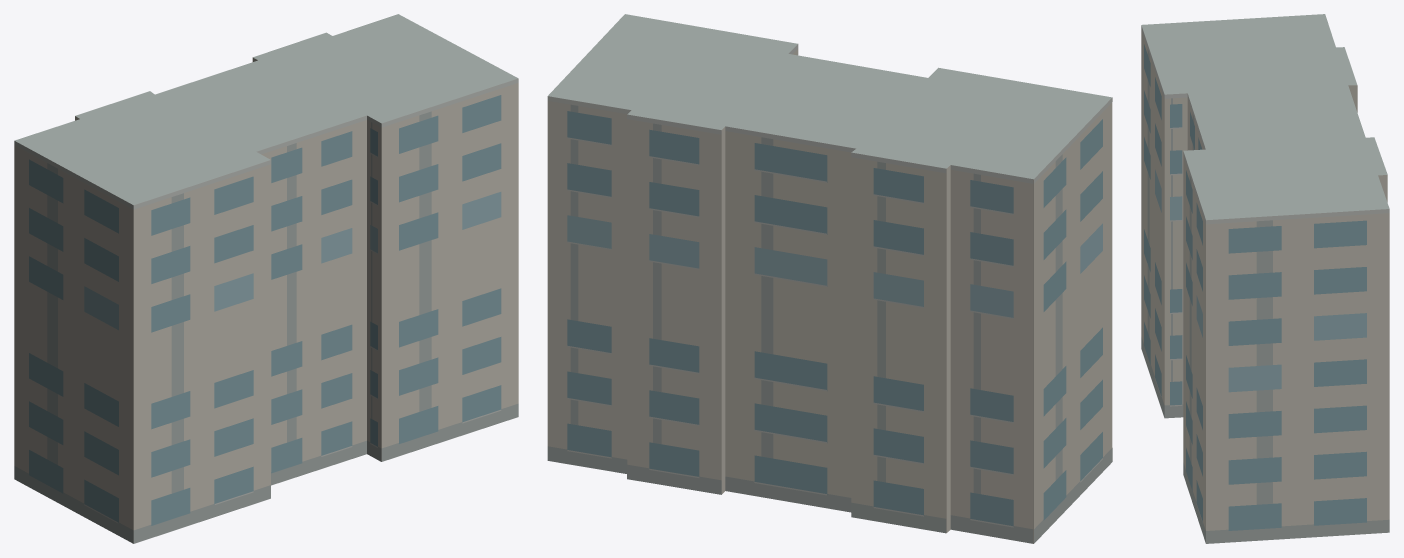
The model's file is survey-upis-32721238.glb.
3 views of the same model, side by side, from view 1: azimuth 30°, elevation 25°; view 2: azimuth 150°, elevation 25°; view 3: azimuth 270°, elevation 25° (orthographic). The views are drawn at different scales.
Parts seen in each view (by area): view 1: survey-upis-32721238.tmp; view 2: survey-upis-32721238.tmp; view 3: survey-upis-32721238.tmp.
Boxes of the visible parts, bbox=[...] form: survey-upis-32721238.tmp: bbox=[14, 14, 518, 543]; survey-upis-32721238.tmp: bbox=[547, 14, 1112, 543]; survey-upis-32721238.tmp: bbox=[1141, 14, 1389, 543].
Bounding box in the file's own units: 25.83 × 18.9 × 13.16.
